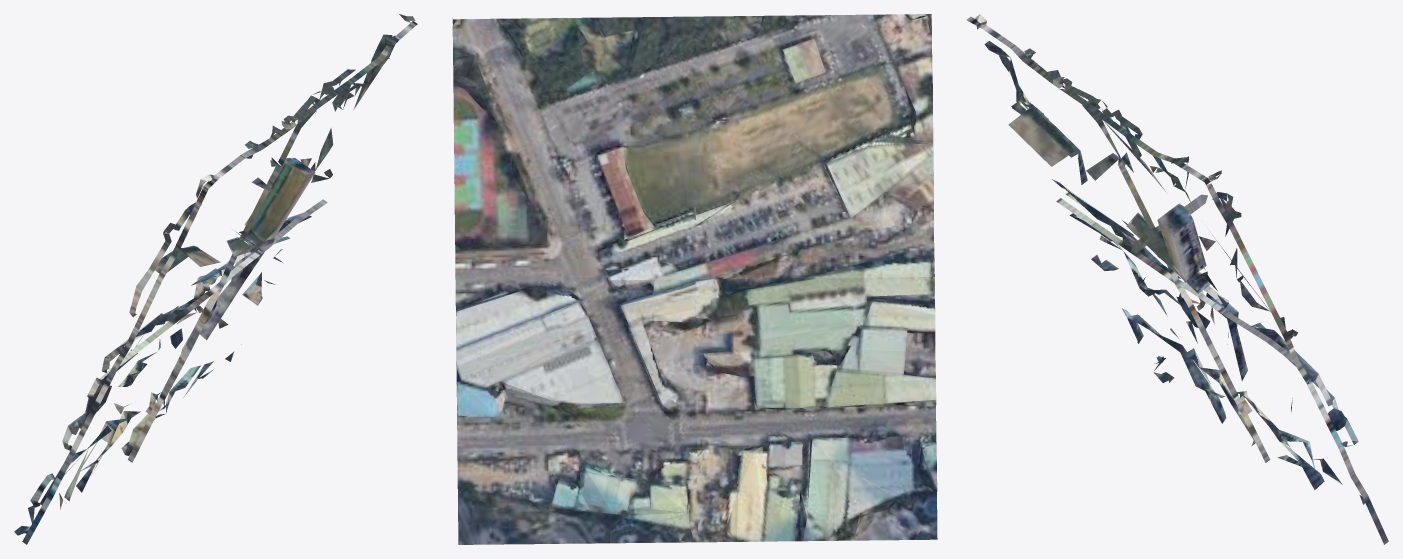
3 views of the same model, side by side, from view 1: azimuth 30°, elevation 25°; view 2: azimuth 150°, elevation 25°; view 3: azimuth 270°, elevation 25° (orthographic). The views are drawn at different scales.
Bounding box in the file's own units: 307 × 280 × 258.
Materials: 2 (2 with a texture image).
